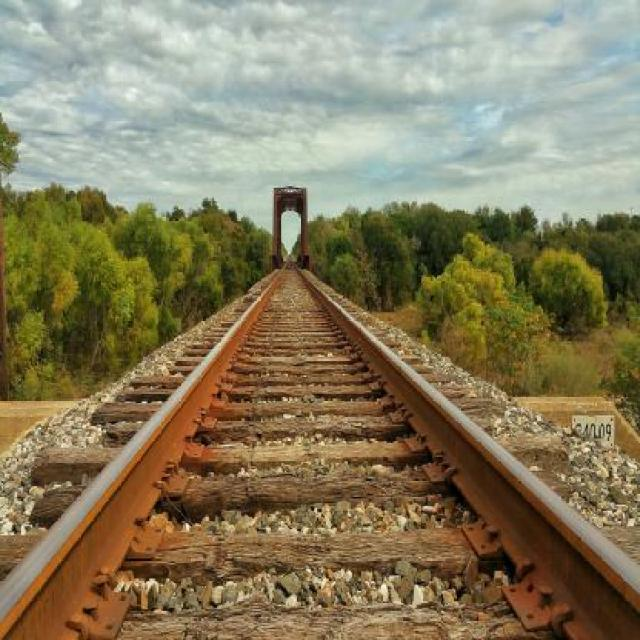defective: (0, 253, 638, 638)
